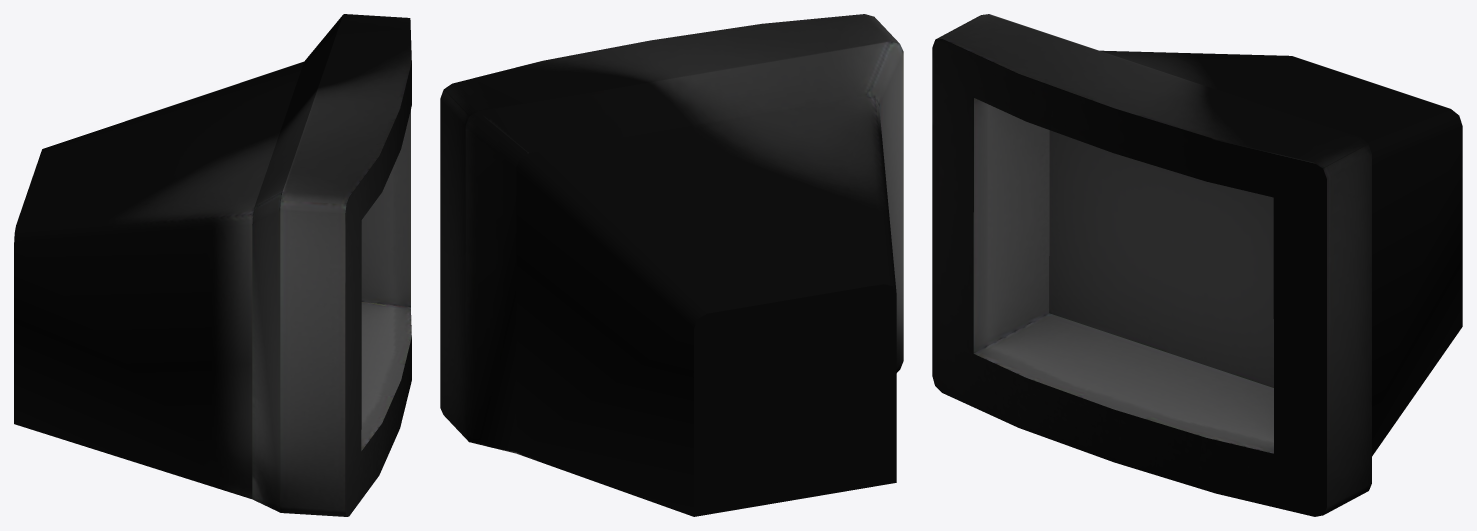
3 views of the same model, side by side, from view 1: azimuth 30°, elevation 25°; view 2: azimuth 150°, elevation 25°; view 3: azimuth 270°, elevation 25° (orthographic). The views are drawn at different scales.
Visible parts, largest first — view 1: tv 2; view 2: tv 2; view 3: tv 2.
Part boxes in pixels (x1,y1,x2,y2): tv 2: [14, 14, 411, 516]; tv 2: [440, 14, 903, 516]; tv 2: [932, 14, 1462, 516].
Size of the model in its own units: 218 by 216 by 159.
1 material, 1 textured.
